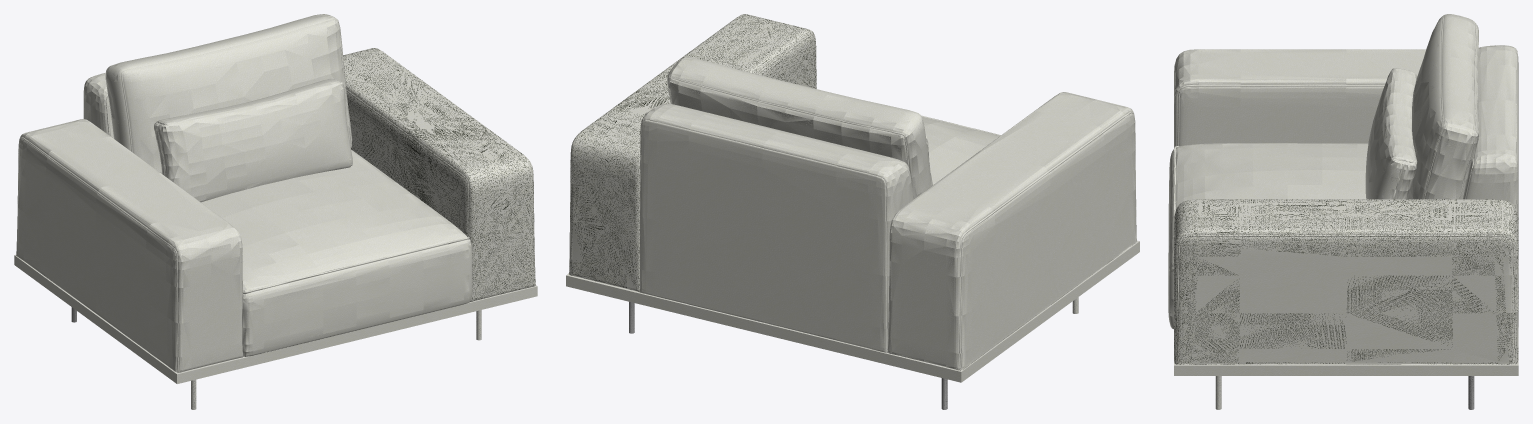
The model's file is Double_Arm_1.glb.
3 renders of one model, left to right at view 1: azimuth 30°, elevation 25°; view 2: azimuth 150°, elevation 25°; view 3: azimuth 270°, elevation 25°, orthographic. The views are drawn at different scales.
Visible parts, largest first — view 1: group_6, group_5, group_4, group_7, group_1, instance_0.002, group_3, instance_0.003; view 2: group_3, group_6, group_4, group_7, instance_0.002, group_5, instance_0.003; view 3: group_4, group_6, group_5, group_7, group_3, group_1, instance_0.002, instance_0.003, instance_0.001.
Boxes of the visible parts, <box> form: group_6: <box>16,119,243,372</box>; group_5: <box>201,150,472,356</box>; group_4: <box>343,48,535,301</box>; group_7: <box>105,14,352,173</box>; group_1: <box>154,78,352,202</box>; instance_0.002: <box>14,255,537,383</box>; group_3: <box>83,72,113,138</box>; instance_0.003: <box>14,254,537,374</box>; group_3: <box>640,103,913,352</box>; group_6: <box>887,92,1136,370</box>; group_4: <box>568,14,816,292</box>; group_7: <box>667,56,931,198</box>; instance_0.002: <box>566,241,1139,382</box>; group_5: <box>921,115,1000,184</box>; instance_0.003: <box>566,240,1139,371</box>; group_4: <box>1174,199,1518,364</box>; group_6: <box>1174,49,1425,147</box>; group_5: <box>1168,143,1368,329</box>; group_7: <box>1407,14,1478,199</box>; group_3: <box>1463,45,1518,326</box>; group_1: <box>1365,68,1417,199</box>; instance_0.002: <box>1174,365,1518,375</box>; instance_0.003: <box>1174,327,1518,365</box>; instance_0.001: <box>1176,364,1516,364</box>.
Bounding box in the file's own units: 1.15 × 0.7699 × 0.9152.
6 materials, 5 textured.
